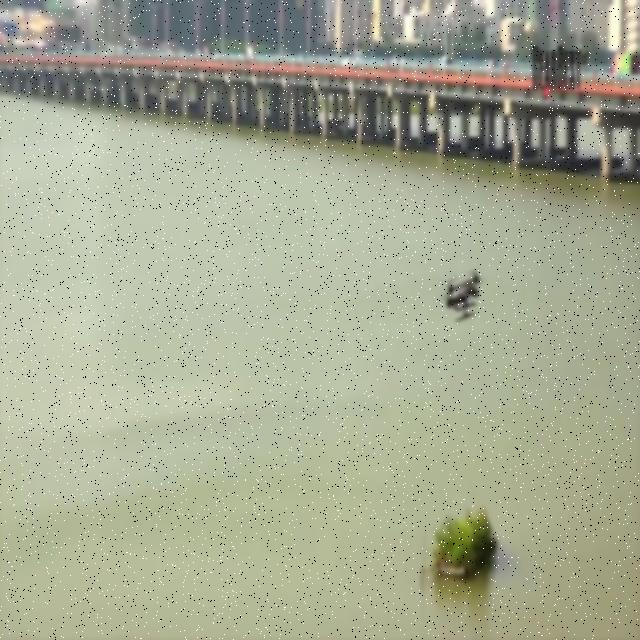UAV: (442, 270, 480, 323)
